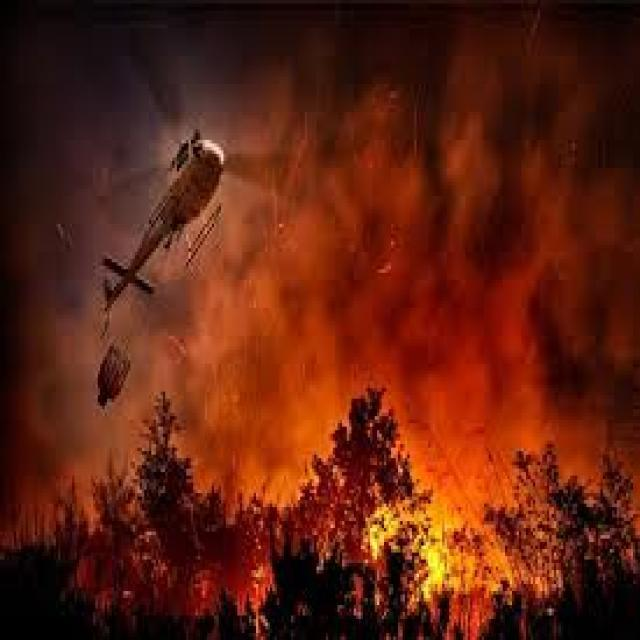Smoke: (0, 4, 640, 516)
